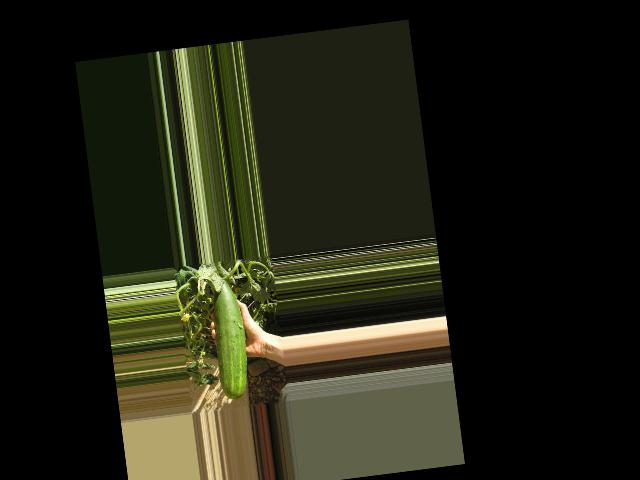cucumber: (207, 276, 253, 401)
